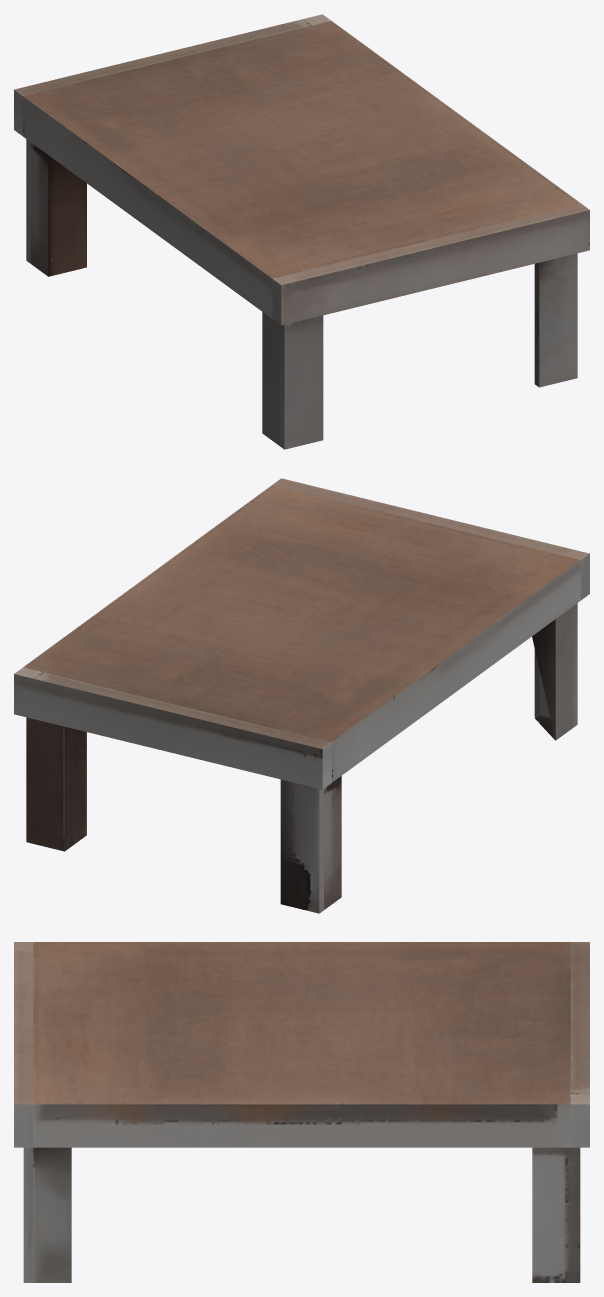
The picture shows the model from 3 angles, top to bottom: view 1: azimuth 30°, elevation 25°; view 2: azimuth 150°, elevation 25°; view 3: azimuth 270°, elevation 25°; orthographic projection. The views are drawn at different scales.
Parts seen in each view (by area): view 1: Node; view 2: Node; view 3: Node.
Part boxes in pixels (<box>): Node: <box>14,14,589,449</box>; Node: <box>14,478,589,913</box>; Node: <box>14,942,589,1282</box>.
Bounding box in the file's own units: 0.4667 × 0.245 × 0.7.
Materials: 1 (1 with a texture image).
